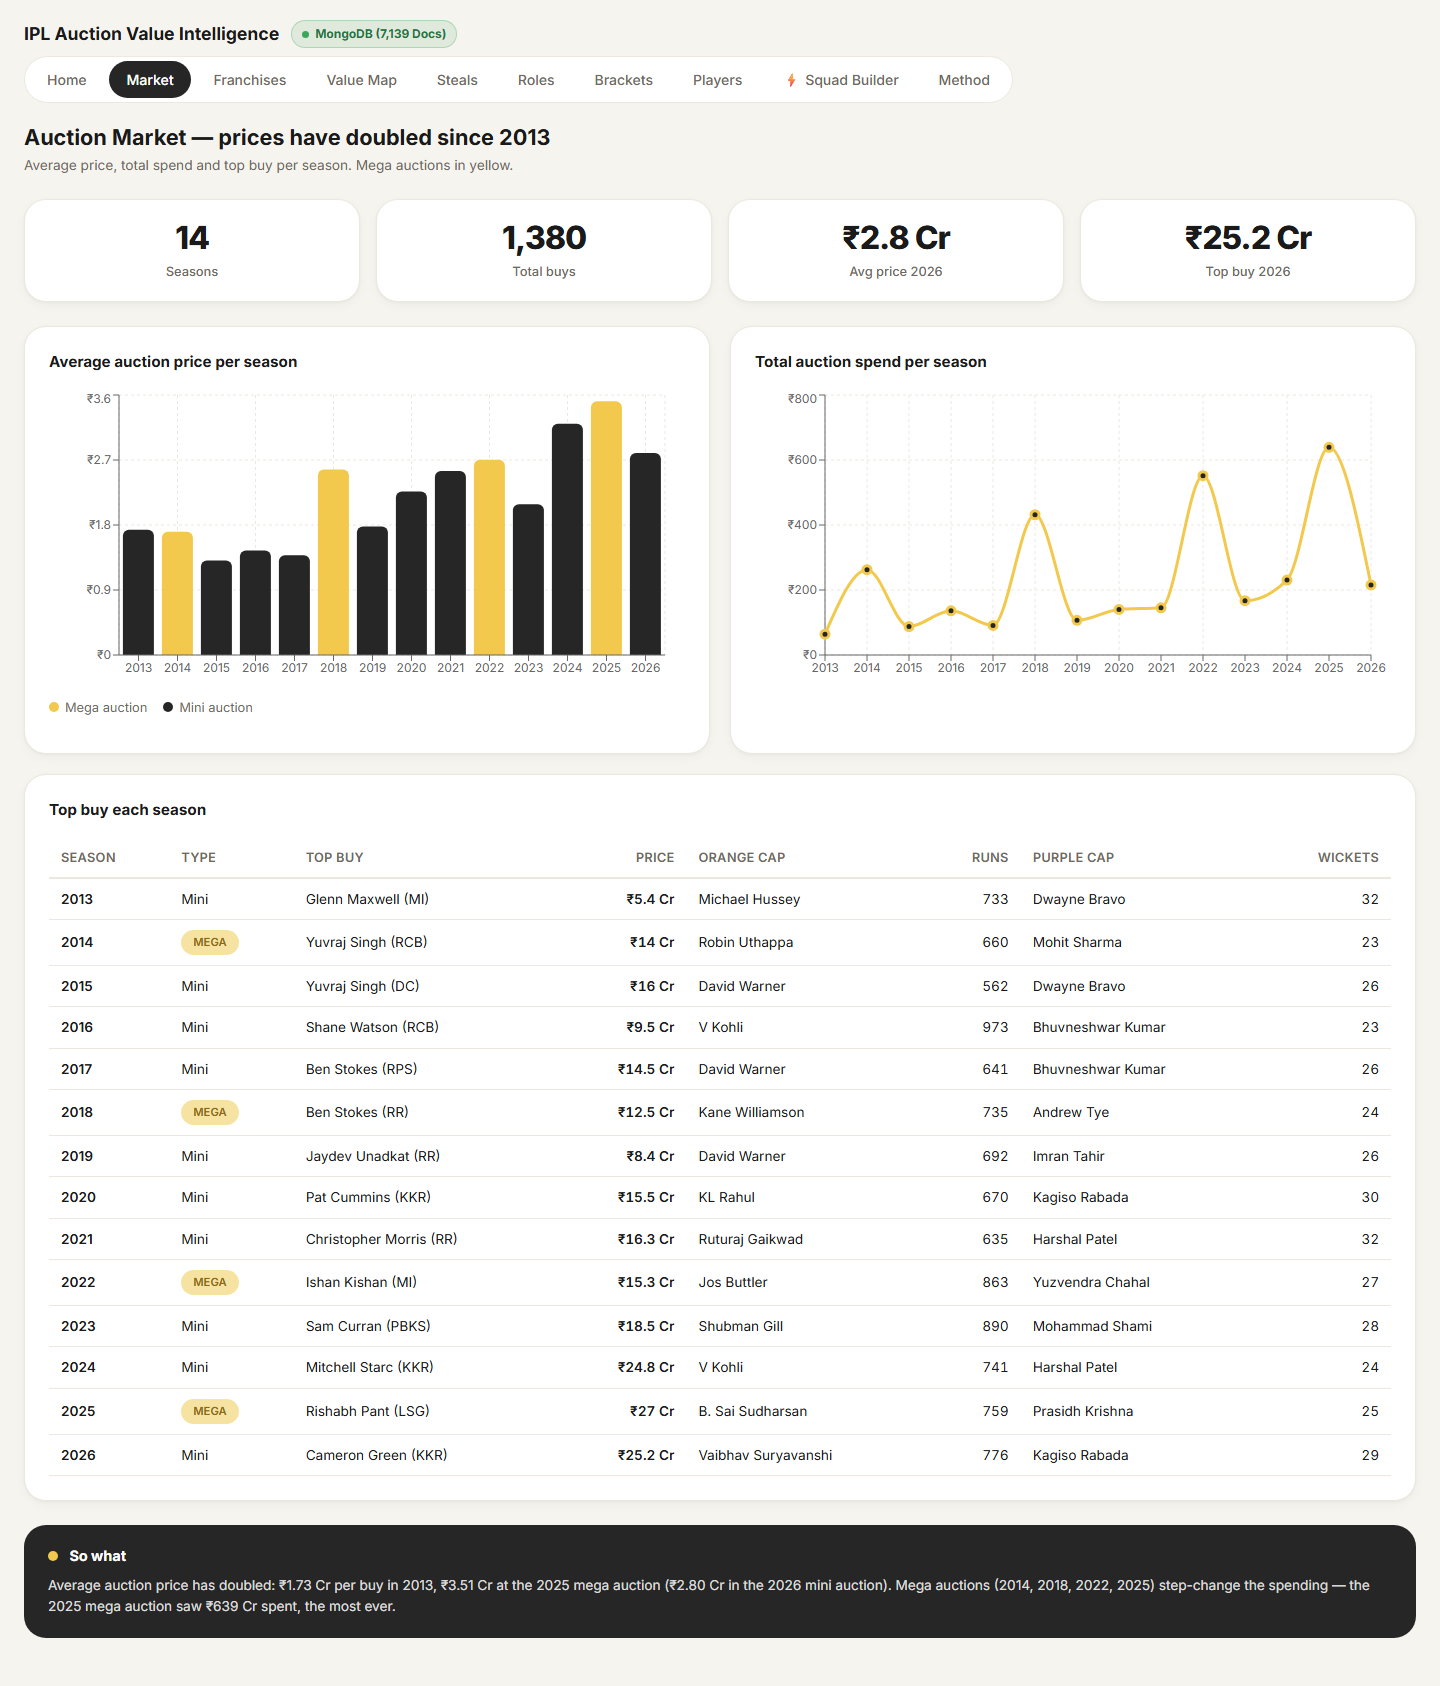

The page's visual inventory and layout, read from the dashboard file:
{"tool":"powerbi","page":{"name":"1 Auction Market","canvas":[1280,720],"ordinal":1},"visuals":[{"type":"textbox","box":[16,8,270,66],"z":1000},{"type":"textbox","box":[300,14,748,44],"z":2000},{"type":"actionButton","title":"Home","box":[306,20,88,32],"z":3000},{"type":"actionButton","title":"Market","box":[398,20,88,32],"z":4000},{"type":"actionButton","title":"Franchises","box":[490,20,88,32],"z":5000},{"type":"actionButton","title":"Value Map","box":[582,20,88,32],"z":6000},{"type":"actionButton","title":"Steals","box":[674,20,88,32],"z":7000},{"type":"actionButton","title":"Roles","box":[766,20,88,32],"z":8000},{"type":"actionButton","title":"Brackets","box":[858,20,88,32],"z":9000},{"type":"actionButton","title":"Method","box":[950,20,88,32],"z":10000},{"type":"actionButton","title":"i","box":[1062,14,44,44],"z":11000},{"type":"textbox","box":[16,74,1248,50],"z":12000},{"type":"card","fields":{"Values":["_Measures.Total Auction Spend Cr"]},"box":[16,126,200,62],"z":13000},{"type":"card","fields":{"Values":["_Measures.Avg Auction Price Cr"]},"box":[224,126,200,62],"z":14000},{"type":"card","fields":{"Values":["_Measures.Mega 2025 vs 2013"]},"box":[432,126,200,62],"z":15000},{"type":"card","fields":{"Values":["_Measures.Avg Price vs 2013"]},"box":[640,126,200,62],"z":16000},{"type":"card","fields":{"Values":["_Measures.Top Buy Price Cr"]},"box":[848,126,200,62],"z":17000},{"type":"card","fields":{"Values":["_Measures.Auction Premium %"]},"box":[1056,126,200,62],"z":18000},{"type":"textbox","box":[16,192,196,268],"z":19000},{"type":"textbox","box":[16,470,196,234],"z":20000},{"type":"clusteredColumnChart","title":"Average auction price per buy (₹ Cr) · charcoal = mega auction","fields":{"Category":["DimSeason.Season"],"Y":["_Measures.Avg Auction Price Cr"]},"box":[224,192,640,252],"z":21000},{"type":"columnChart","title":"Total auction spend by season and role (₹ Cr)","fields":{"Category":["DimSeason.Season"],"Series":["DimPlayer.Role"],"Y":["_Measures.Total Auction Spend Cr"]},"box":[224,454,640,250],"z":22000},{"type":"tableEx","title":"Most expensive buy each season","fields":{"Values":["DimSeason.Season","_Measures.Top Buy Player","_Measures.Top Buy Price Cr"]},"box":[876,192,388,512],"z":23000}]}

Visuals, with their boxes on the page's 1280x720 design canvas (x1, y1, x2, y2). These are canvas units, not pixel positions in the 1440x1686 screenshot, which may show the page scaled, cropped or inside an application window:
textbox: (x1=16, y1=8, x2=286, y2=74)
textbox: (x1=300, y1=14, x2=1048, y2=58)
"Home" actionButton: (x1=306, y1=20, x2=394, y2=52)
"Market" actionButton: (x1=398, y1=20, x2=486, y2=52)
"Franchises" actionButton: (x1=490, y1=20, x2=578, y2=52)
"Value Map" actionButton: (x1=582, y1=20, x2=670, y2=52)
"Steals" actionButton: (x1=674, y1=20, x2=762, y2=52)
"Roles" actionButton: (x1=766, y1=20, x2=854, y2=52)
"Brackets" actionButton: (x1=858, y1=20, x2=946, y2=52)
"Method" actionButton: (x1=950, y1=20, x2=1038, y2=52)
"i" actionButton: (x1=1062, y1=14, x2=1106, y2=58)
textbox: (x1=16, y1=74, x2=1264, y2=124)
card - _Measures.Total Auction Spend Cr: (x1=16, y1=126, x2=216, y2=188)
card - _Measures.Avg Auction Price Cr: (x1=224, y1=126, x2=424, y2=188)
card - _Measures.Mega 2025 vs 2013: (x1=432, y1=126, x2=632, y2=188)
card - _Measures.Avg Price vs 2013: (x1=640, y1=126, x2=840, y2=188)
card - _Measures.Top Buy Price Cr: (x1=848, y1=126, x2=1048, y2=188)
card - _Measures.Auction Premium %: (x1=1056, y1=126, x2=1256, y2=188)
textbox: (x1=16, y1=192, x2=212, y2=460)
textbox: (x1=16, y1=470, x2=212, y2=704)
"Average auction price per buy (₹ Cr) · charcoal = mega auction" clusteredColumnChart: (x1=224, y1=192, x2=864, y2=444)
"Total auction spend by season and role (₹ Cr)" columnChart: (x1=224, y1=454, x2=864, y2=704)
"Most expensive buy each season" tableEx: (x1=876, y1=192, x2=1264, y2=704)
